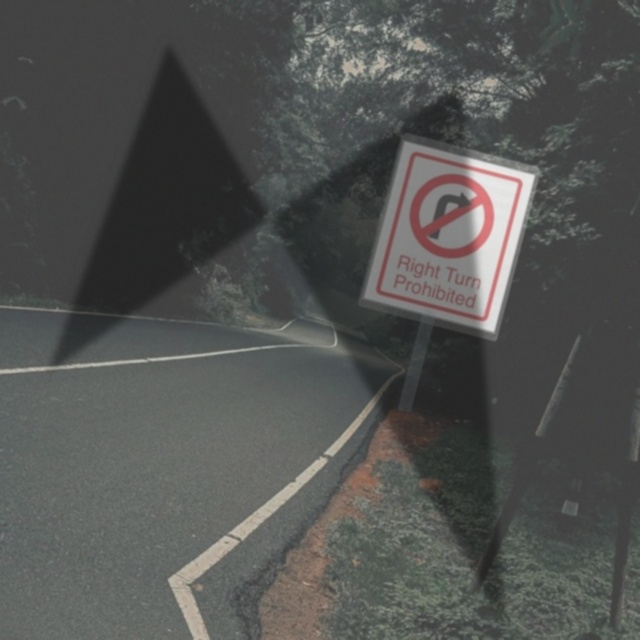Right_Turn_Prohibited: (390, 156, 517, 276)
